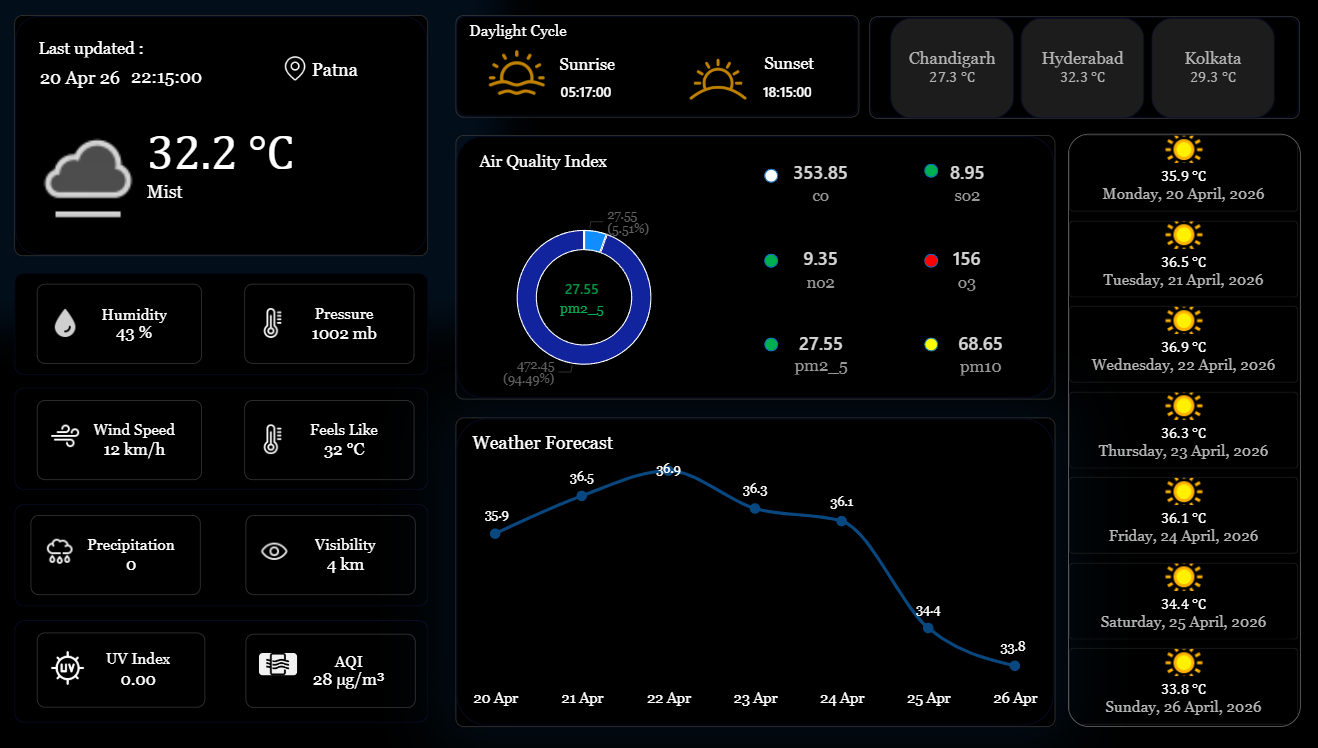

Layout of this report page (visuals, bound fields, positions):
{"tool":"powerbi","page":{"name":"Page 1","canvas":[1280,720],"ordinal":0},"visuals":[{"type":"shape","box":[15.7,14.3,397.1,231.4],"z":0},{"type":"shape","box":[438.3,400,575,296.7],"z":1000},{"type":"shape","box":[15.7,261.4,397.1,98.6],"z":2000},{"type":"shape","box":[15.7,594.3,397.1,98.6],"z":3000},{"type":"shape","box":[15.7,482.9,397.1,98.6],"z":4000},{"type":"shape","box":[15.7,371.4,397.1,98.6],"z":5000},{"type":"shape","box":[835.7,15.7,412.9,98.6],"z":6000},{"type":"shape","box":[438.6,14.3,387.1,98.6],"z":7000},{"type":"advancedSlicerVisual","fields":{"Values":["location.location.name"]},"box":[835.7,17.1,411.4,97.1],"z":8000},{"type":"shape","box":[142.9,101.4,190,80],"z":9000},{"type":"shape","box":[142.9,160,144.3,42.9],"z":10000},{"type":"shape","box":[301.1,44.4,98.9,42.2],"z":11000},{"type":"shape","box":[31,51,89,43],"z":12000},{"type":"image","box":[268.9,54.4,32.2,23.3],"z":13000},{"type":"cardVisual","fields":{"Data":["Min(current.current.condition.icon)"]},"box":[15.7,87.1,172.9,150],"z":14000},{"type":"lineChart","title":"Weather Forecast","fields":{"Category":["forcast_day.date.Variation.Date Hierarchy.Year","forcast_day.date.Variation.Date Hierarchy.Quarter","forcast_day.date.Variation.Date Hierarchy.Month","forcast_day.date.Variation.Date Hierarchy.Day"],"Y":["Avg(forcast_day.forecast.forecastday.day.avgtemp_c)"]},"box":[438.6,400,574.3,297.1],"z":15000},{"type":"shape","box":[120,50,79,44],"z":16000},{"type":"shape","box":[37.1,24.3,105.7,41.4],"z":17000},{"type":"cardVisual","fields":{"Data":["current.Humidity KPI"]},"box":[36.7,271.7,158.3,76.7],"z":18000},{"type":"cardVisual","fields":{"Data":["current.AQI KPI"]},"box":[237.1,607.1,162.9,71.4],"z":19000},{"type":"cardVisual","fields":{"Data":["Avg(current.current.uv)"]},"box":[36.7,606.7,161.7,71.7],"z":20000},{"type":"cardVisual","fields":{"Data":["current.Wind Speed"]},"box":[36.7,383.3,158.3,76.7],"z":21000},{"type":"cardVisual","fields":{"Data":["current.Visibility KPI"]},"box":[237.3,493.8,163,76.7],"z":22000},{"type":"cardVisual","fields":{"Data":["current.Feels Like KPI"]},"box":[236.7,383.3,163.3,76.7],"z":23000},{"type":"advancedSlicerVisual","fields":{"Values":["forcast_day.day_name"]},"box":[1025.7,128.6,222.9,568.6],"z":24000},{"type":"shape","box":[451.2,7.5,167.5,41.2],"z":25000},{"type":"shape","box":[527.3,40,67.3,40],"z":26000},{"type":"cardVisual","fields":{"Data":["Min(forcast_day.sunrise)"]},"box":[527.3,65.5,91.8,41.8],"z":27000},{"type":"image","box":[648.6,40,84.3,72.9],"z":28000},{"type":"shape","box":[729.1,48.2,55.5,23.6],"z":29000},{"type":"cardVisual","fields":{"Data":["Min(forcast_day.sunset)"]},"box":[721.8,71.8,88.2,30],"z":30000},{"type":"image","box":[467.1,42.9,60,52.9],"z":31000},{"type":"cardVisual","fields":{"Data":["Sum(current.current.precip_mm)"]},"box":[31.7,493.3,163.3,76.7],"z":32000},{"type":"shape","box":[642.9,128.6,167.1,42.9],"z":33000},{"type":"cardVisual","fields":{"Data":["current.Pressure KPI"]},"box":[236.7,271.7,163.3,76.7],"z":34000},{"type":"shape","box":[438.3,130,575,253.3],"z":35000},{"type":"cardVisual","fields":{"Data":["Avg(current.current.air_quality.co)"]},"box":[735,147,108,54],"z":36000},{"type":"cardVisual","fields":{"Data":["Sum(current.current.air_quality.o3)"]},"box":[875,230,108,54],"z":37000},{"type":"cardVisual","fields":{"Data":["Sum(current.current.air_quality.so2)"]},"box":[875,147,109,54],"z":38000},{"type":"cardVisual","fields":{"Data":["Sum(current.current.air_quality.no2)"]},"box":[735,230,108,54],"z":39000},{"type":"cardVisual","fields":{"Data":["Sum(current.current.air_quality.pm2_5)"]},"box":[735,310,109,55],"z":40000},{"type":"cardVisual","fields":{"Data":["Sum(current.current.air_quality.pm10)"]},"box":[888,310,108,56],"z":41000},{"type":"shape","box":[735,161.7,13.3,13.3],"z":42000},{"type":"shape","box":[887.5,157.5,13.3,13.3],"z":43000},{"type":"shape","box":[887.5,243.3,13.3,13.3],"z":44000},{"type":"shape","box":[887.5,324.2,13.3,13.3],"z":45000},{"type":"shape","box":[735,324.2,13.3,13.3],"z":46000},{"type":"shape","box":[735,243.3,13.3,13.3],"z":47000},{"type":"shape","box":[461.2,133.8,187.5,37.5],"z":48000},{"type":"cardVisual","fields":{"Data":["Sum(current.current.air_quality.pm2_5)"]},"box":[506.2,257.5,108.8,55],"z":49000},{"type":"donutChart","fields":{"Y":["Sum(current.current.air_quality.pm2_5)","current.left_value_pm2_5"]},"box":[458.6,185.7,205.7,198.6],"z":50000}]}

Visuals, with their boxes in screenshot pixels (x1, y1, x2, y2), scaled from the page's 1280x720 canvas onto the 1318x748 screenshot:
shape: 16 15 425 255
shape: 451 416 1043 724
shape: 16 272 425 374
shape: 16 617 425 720
shape: 16 502 425 604
shape: 16 386 425 488
shape: 861 16 1286 119
shape: 452 15 850 117
advancedSlicerVisual - location.location.name: 861 18 1284 119
shape: 147 105 343 188
shape: 147 166 296 211
shape: 310 46 412 90
shape: 32 53 124 98
image: 277 57 310 81
cardVisual - Min(current.current.condition.icon): 16 90 194 246
"Weather Forecast" lineChart: 452 416 1043 724
shape: 124 52 205 98
shape: 38 25 147 68
cardVisual - current.Humidity KPI: 38 282 201 362
cardVisual - current.AQI KPI: 244 631 412 705
cardVisual - Avg(current.current.uv): 38 630 204 705
cardVisual - current.Wind Speed: 38 398 201 478
cardVisual - current.Visibility KPI: 244 513 412 593
cardVisual - current.Feels Like KPI: 244 398 412 478
advancedSlicerVisual - forcast_day.day_name: 1056 134 1286 724
shape: 465 8 637 51
shape: 543 42 612 83
cardVisual - Min(forcast_day.sunrise): 543 68 637 111
image: 668 42 755 117
shape: 751 50 808 75
cardVisual - Min(forcast_day.sunset): 743 75 834 106
image: 481 45 543 100
cardVisual - Sum(current.current.precip_mm): 33 512 201 592
shape: 662 134 834 178
cardVisual - current.Pressure KPI: 244 282 412 362
shape: 451 135 1043 398
cardVisual - Avg(current.current.air_quality.co): 757 153 868 209
cardVisual - Sum(current.current.air_quality.o3): 901 239 1012 295
cardVisual - Sum(current.current.air_quality.so2): 901 153 1013 209
cardVisual - Sum(current.current.air_quality.no2): 757 239 868 295
cardVisual - Sum(current.current.air_quality.pm2_5): 757 322 869 379
cardVisual - Sum(current.current.air_quality.pm10): 914 322 1026 380
shape: 757 168 771 182
shape: 914 164 928 177
shape: 914 253 928 267
shape: 914 337 928 351
shape: 757 337 771 351
shape: 757 253 771 267
shape: 475 139 668 178
cardVisual - Sum(current.current.air_quality.pm2_5): 521 268 633 325
donutChart - Sum(current.current.air_quality.pm2_5) x current.left_value_pm2_5: 472 193 684 399
